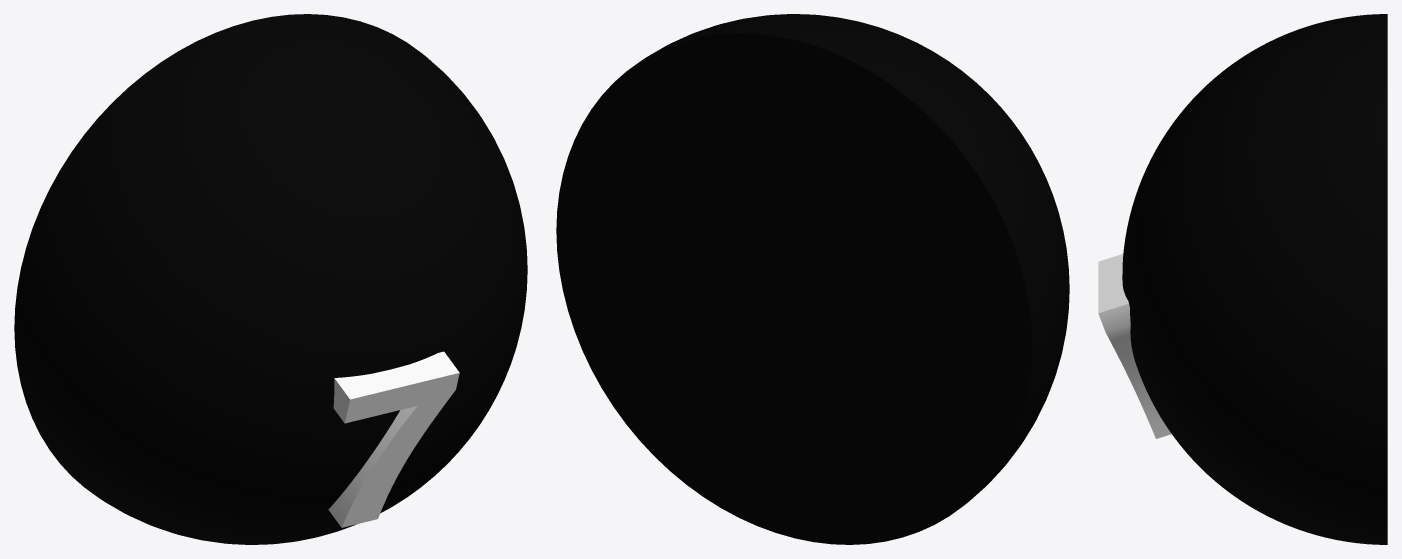
File: button7.fbx
3 views of the same model, side by side, from view 1: azimuth 30°, elevation 25°; view 2: azimuth 150°, elevation 25°; view 3: azimuth 270°, elevation 25° (orthographic). The views are drawn at different scales.
Visible parts, largest first — view 1: root, node_id298; view 2: root; view 3: root, node_id298.
Boxes of the visible parts, bbox=[...] form: root: bbox=[14, 14, 527, 544]; node_id298: bbox=[328, 351, 459, 527]; root: bbox=[556, 14, 1069, 544]; root: bbox=[1122, 14, 1387, 544]; node_id298: bbox=[1098, 254, 1171, 438].
Bounding box in the file's own units: 0.4739 × 0.4739 × 0.2583.
2 materials, 2 textured.
